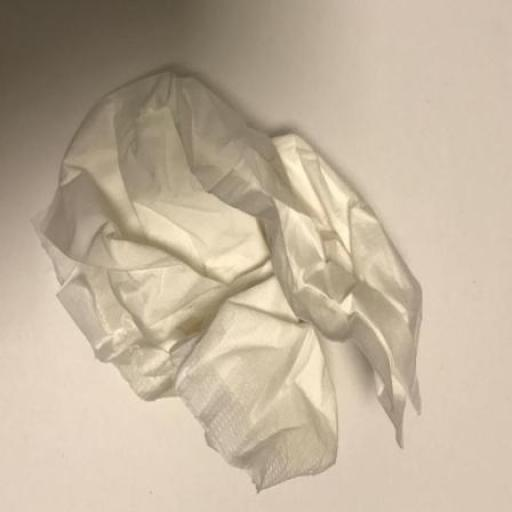paper: (29, 42, 466, 512)
